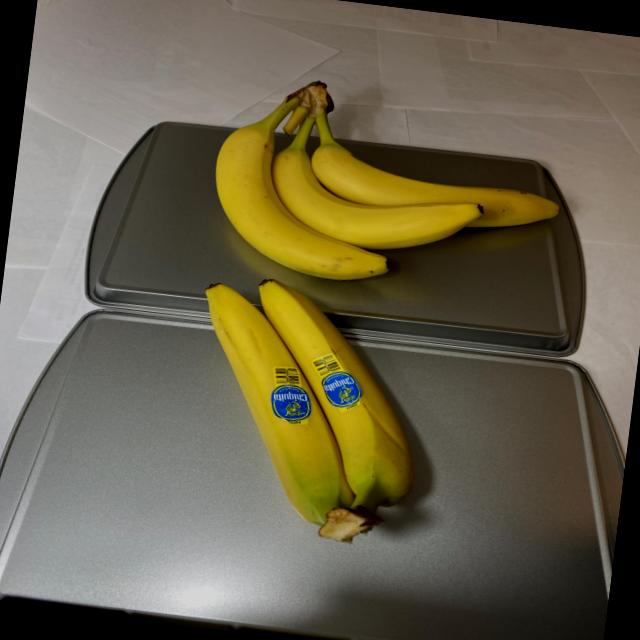banana: (198, 69, 574, 305), (172, 270, 440, 548)
